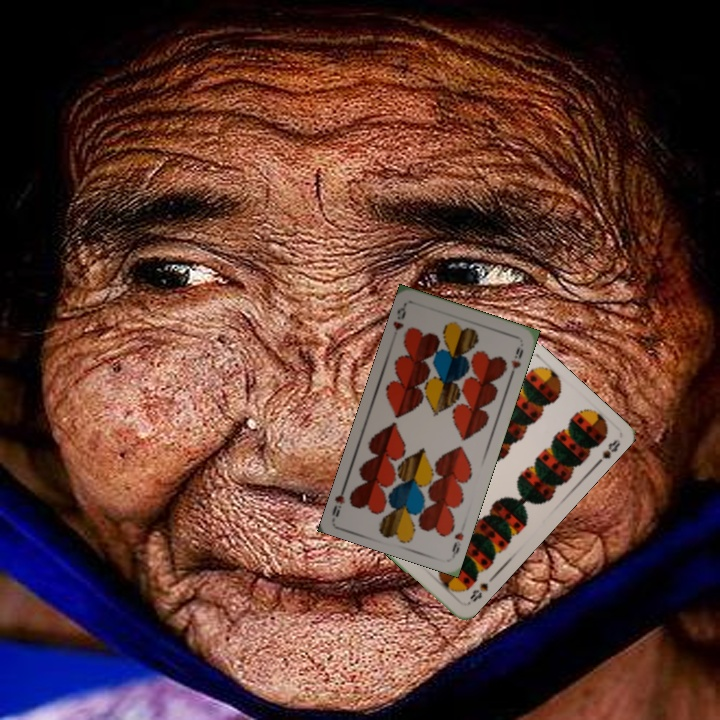H9: (389, 301, 409, 333), (448, 528, 466, 559)
S8: (463, 579, 491, 608)
